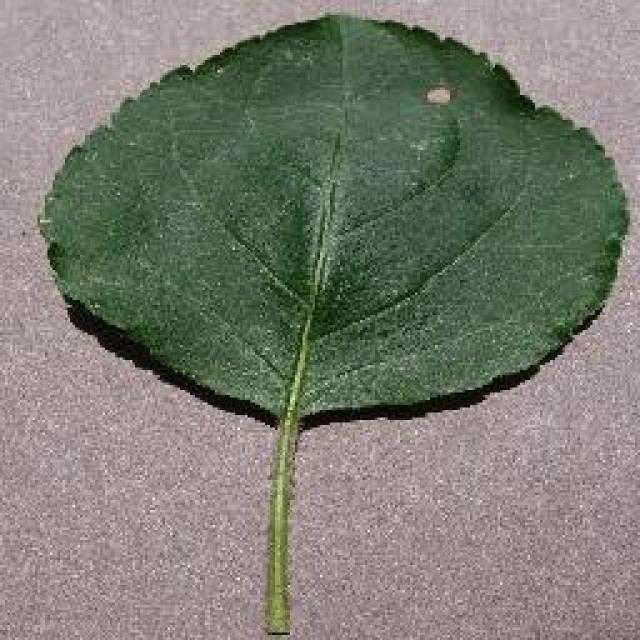Black_rot: (35, 10, 630, 638)
